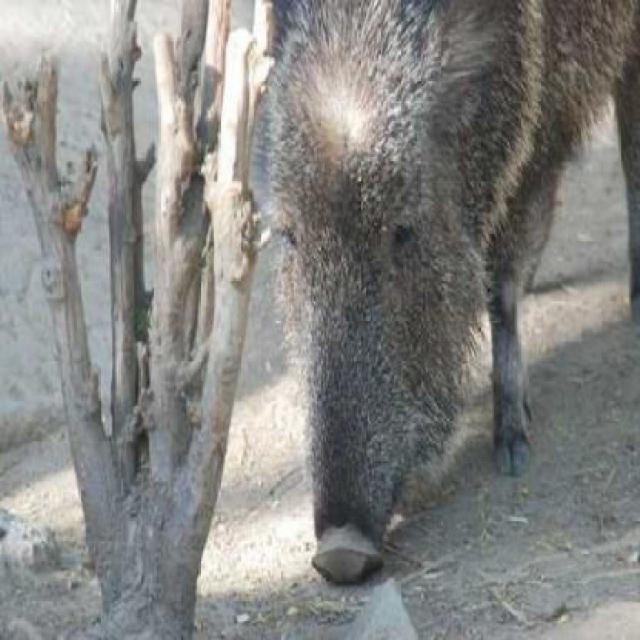pig: (207, 0, 638, 612)
